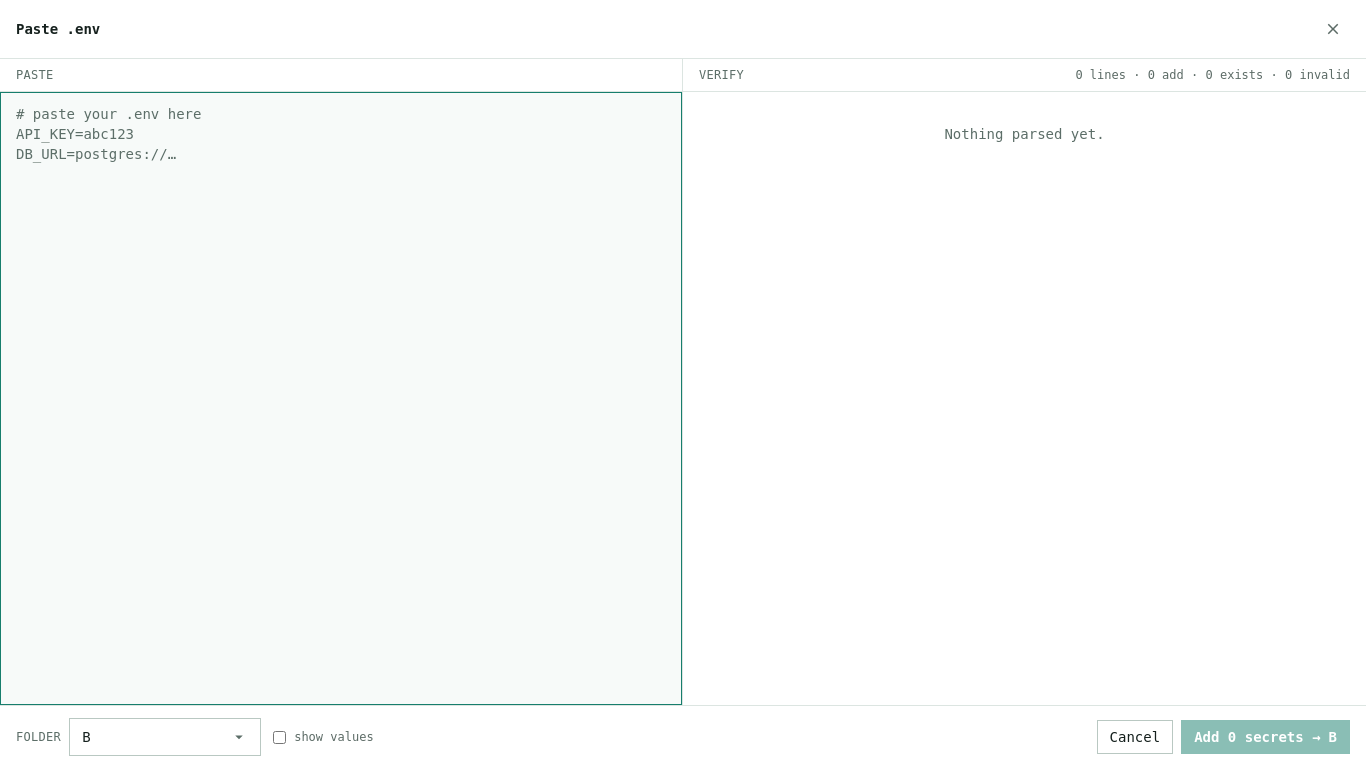
Scenario: BulkAddSheet folder-scoped exists detection › scopes the exists check to the selected folder
Type "K=1" into the text box with placeholder "# paste your .env here API_KEY=abc123 DB_URL=postgres://…". click: (341, 398)
box: [0,92,682,705]
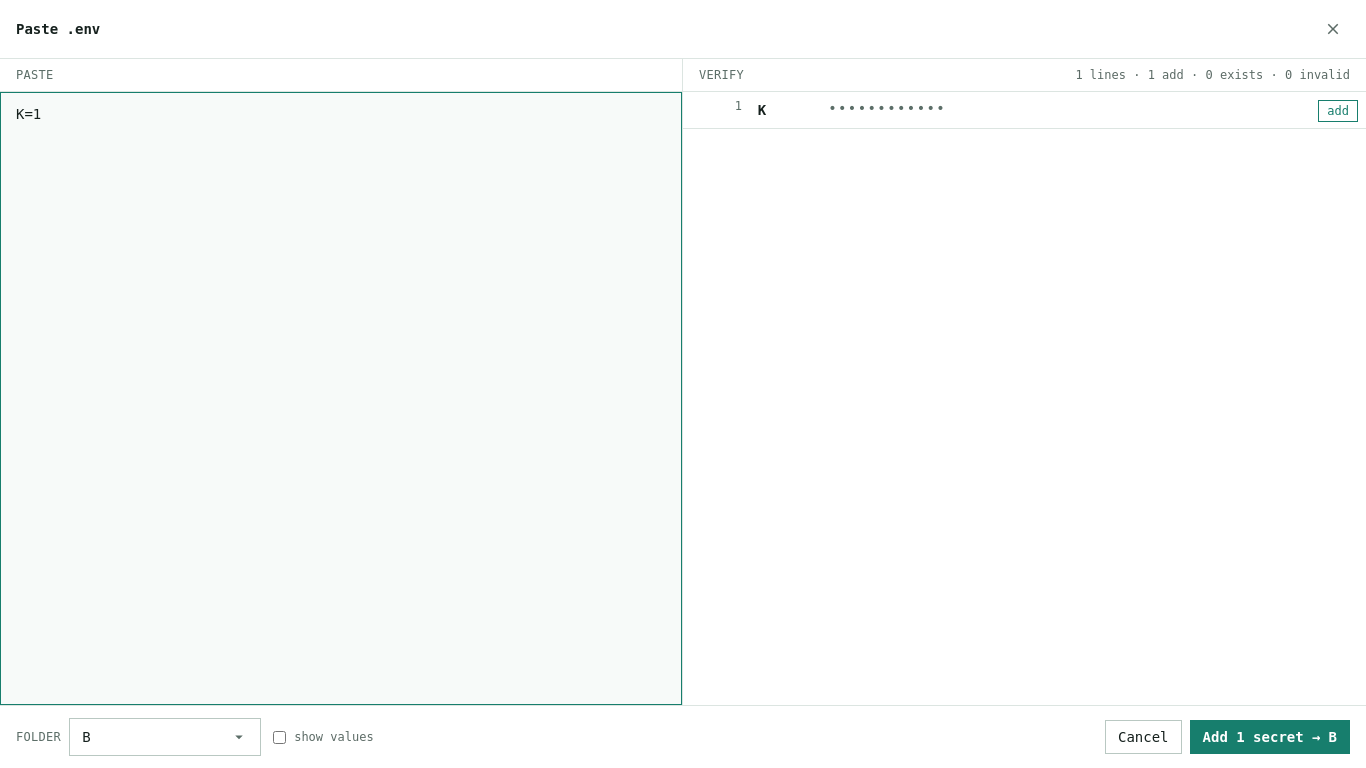
Expected: the text "add" is shown, [1318,100,1358,122]
Expected: the button "Add 1 secret → B" is shown, [1190,720,1350,754]
Note: Switch the folder selector to A: now K collides and is flagged exists.
Click the button named "Folder". click: (165, 737)
box: [69,718,261,756]
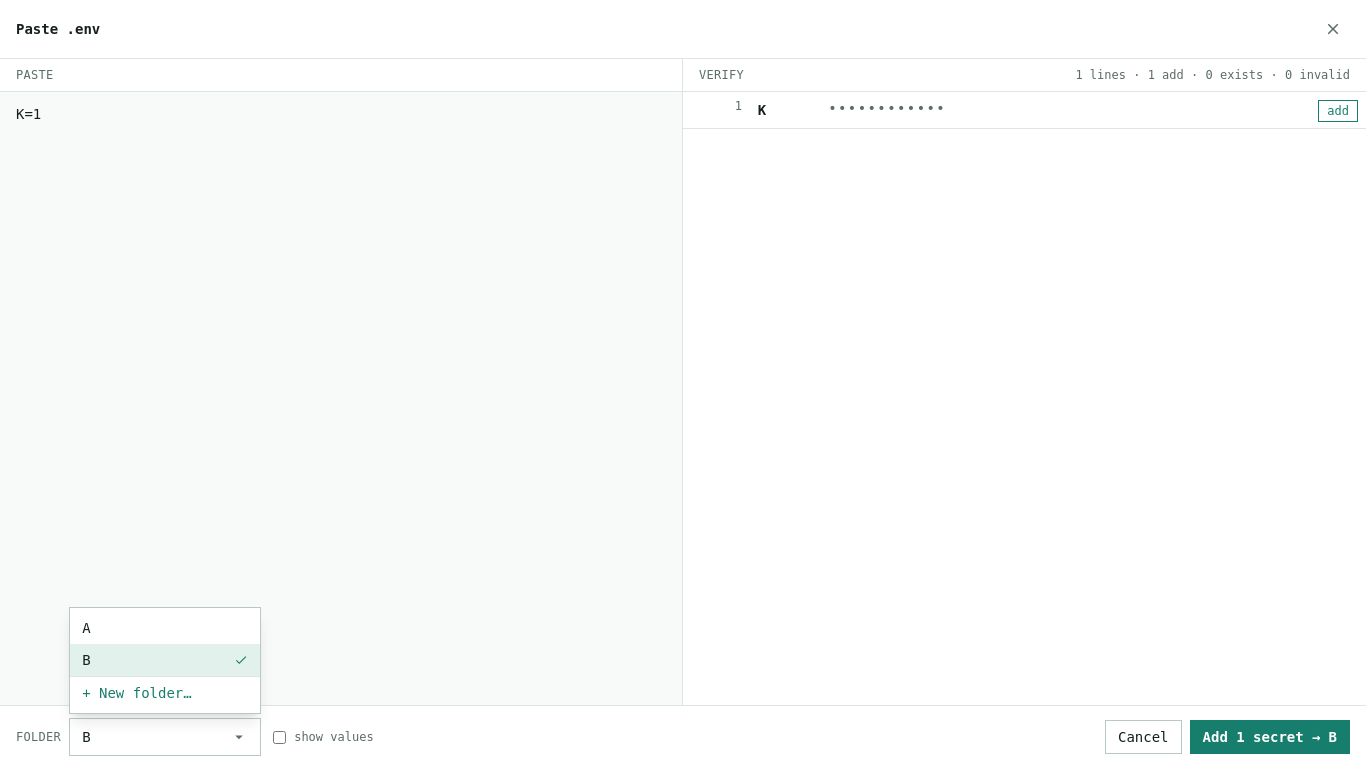
Click the option "A". click: (86, 628)
box: [82,620,91,636]
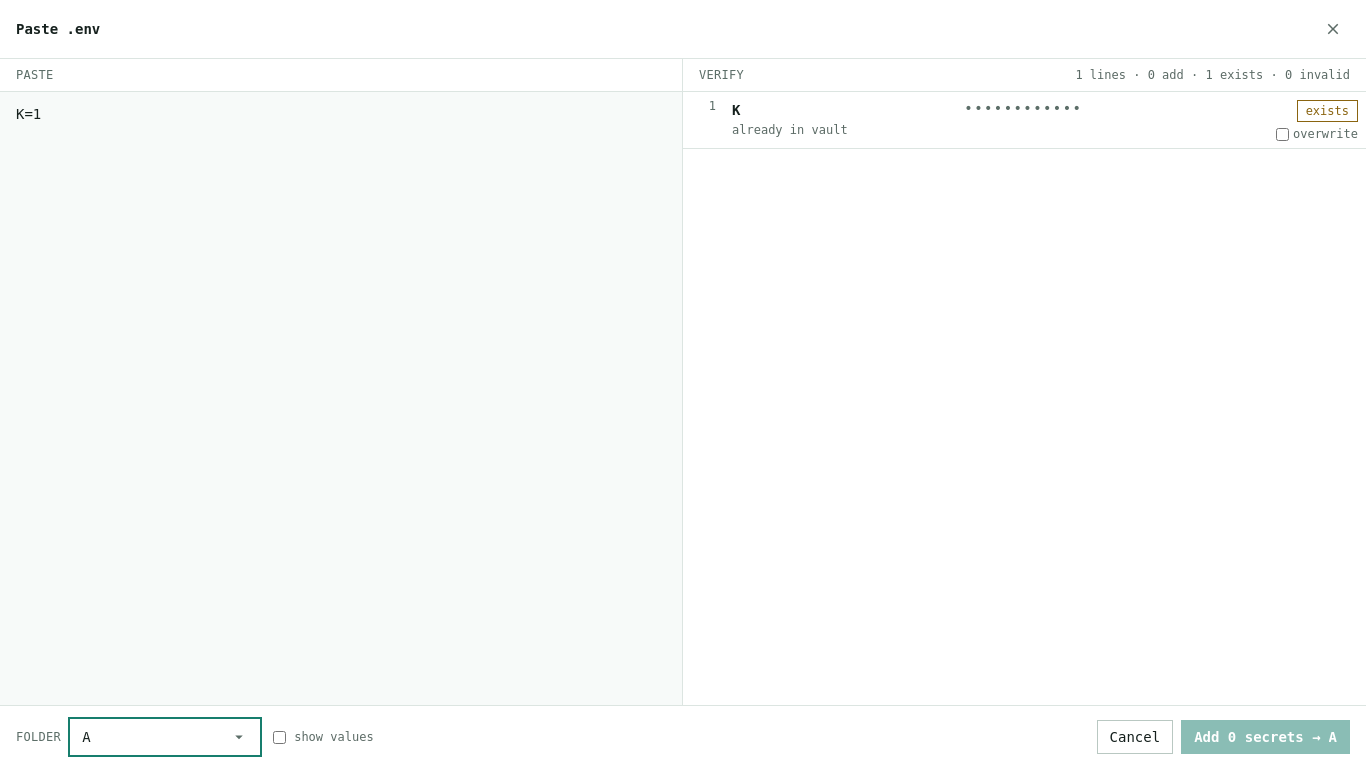
Expected: the text "exists" is shown, [1297,100,1358,122]
Expected: the button "Add 0 secrets → A" is shown, [1181,720,1350,754]
